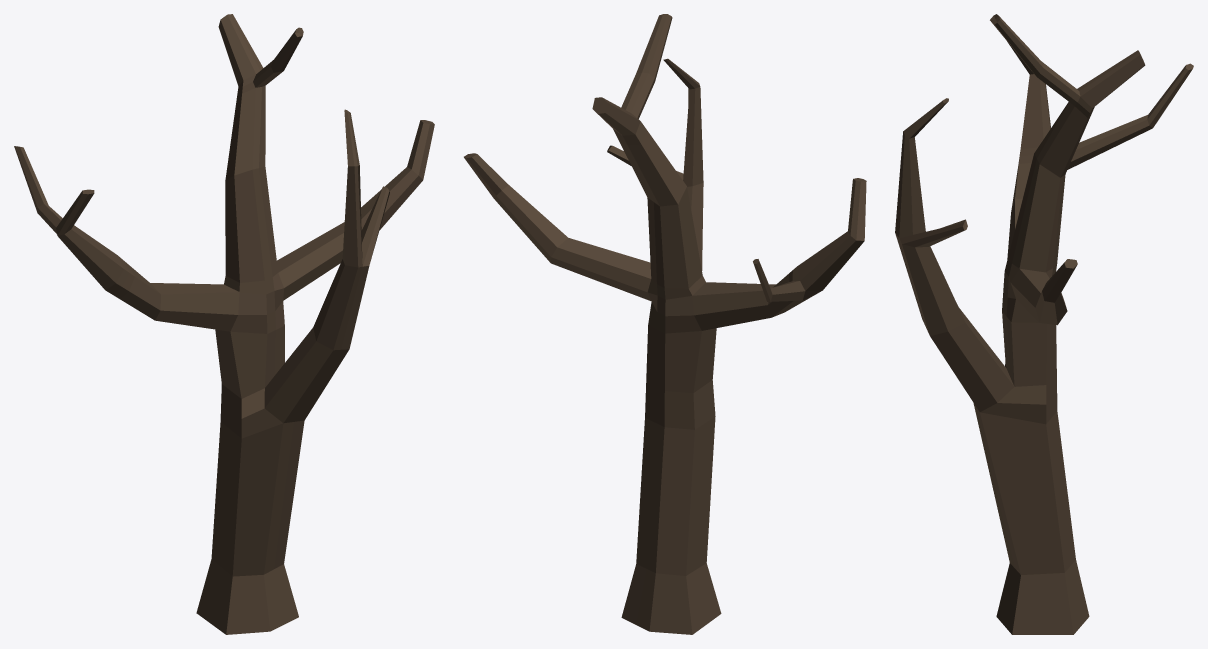
Rendered from tree2.fbx.
3 renders of one model, left to right at view 1: azimuth 30°, elevation 25°; view 2: azimuth 150°, elevation 25°; view 3: azimuth 270°, elevation 25°, orthographic. The views are drawn at different scales.
Visible parts, largest first — view 1: tree2; view 2: tree2; view 3: tree2.
Part boxes in pixels (x1,y1,x2,y2): tree2: (14, 14, 434, 634); tree2: (464, 14, 866, 634); tree2: (895, 14, 1193, 634).
Size of the model in its own units: 1534 by 2219 by 976.
